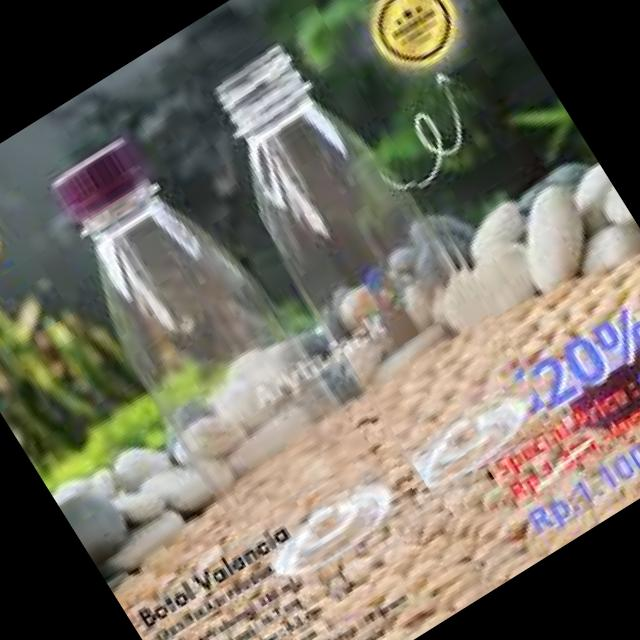plastic bottle: (0, 94, 414, 604), (178, 2, 572, 500)
